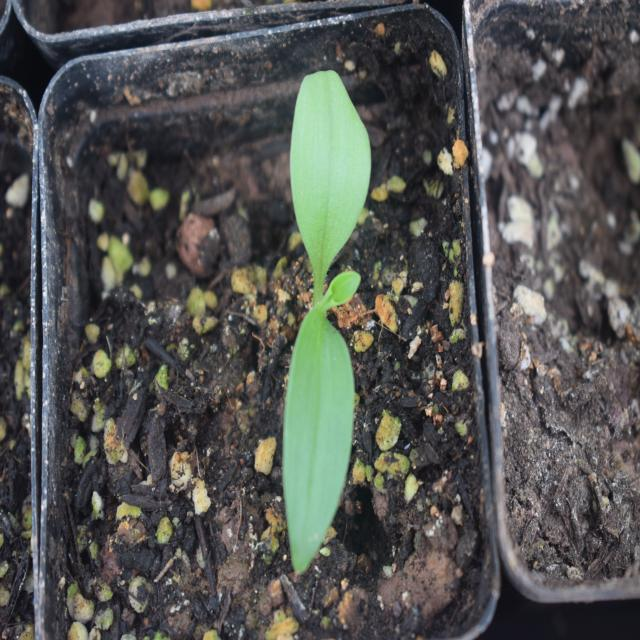Common Dayflower: (270, 56, 380, 575)
